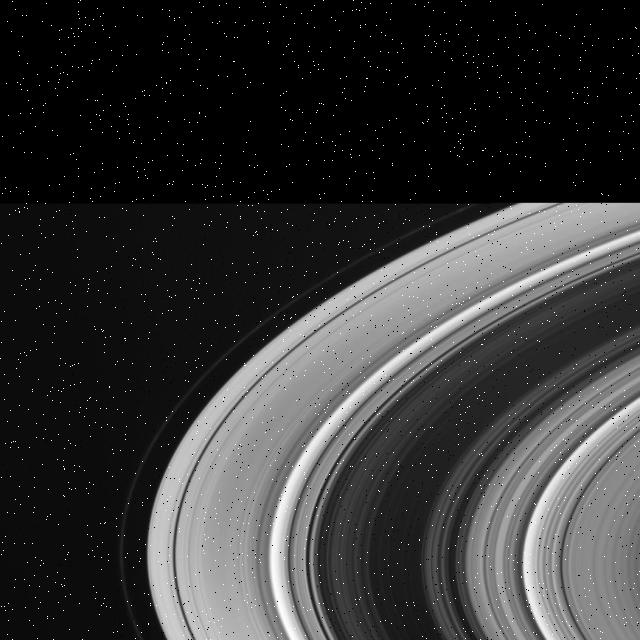Saturn: (118, 206, 640, 640)
